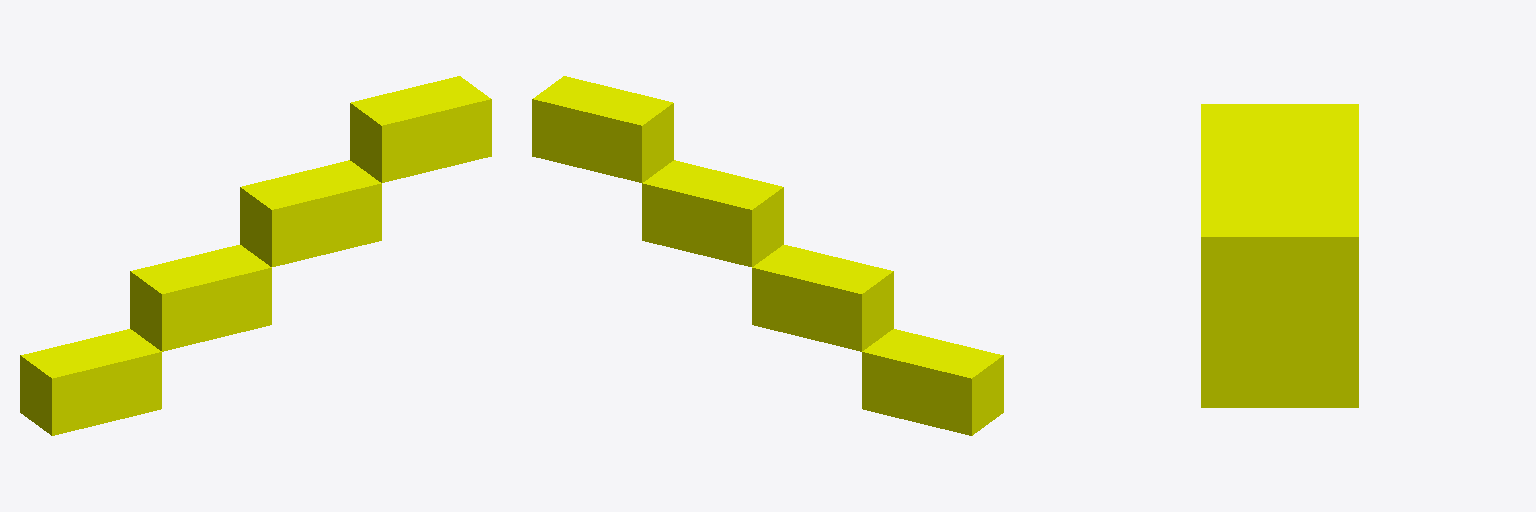
URDF robot description (parallelepiped):
<?xml version="1.0" encoding="utf-8"?>
<!-- This URDF was automatically created by SolidWorks to URDF Exporter! Originally created by [author] ([email redacted])
     Commit Version: 1.5.1-0-g916b5db  Build Version: 1.5.7152.31018
     For more information, please see http://wiki.ros.org/sw_urdf_exporter -->
<robot
  name="parallelepiped">
  <link
    name="base_link">
    <inertial>
      <origin
        xyz="0 0 0.125"
        rpy="0 0 0" />
      <mass
        value="1" />
      <inertia
        ixx="0.01041666"
        ixy="0"
        ixz="0"
        iyy="0.02604166"
        iyz="0"
        izz="0.02604166" />
    </inertial>
    <visual>
      <origin
        xyz="0 0 0.125"
        rpy="0 0 0" />
      <geometry>
        <mesh
          filename="robots/planar_2DOF/meshes/parallelepiped.stl" />
      </geometry>
      <material
        name="">
        <color
          rgba="0.96078 1 0 1" />
      </material>
    </visual>
    <collision>
      <origin
        xyz="0 0 0.125"
        rpy="0 0 0" />
      <geometry>
        <mesh
          filename="robots/planar_2DOF/meshes/parallelepiped.stl" />
      </geometry>
    </collision>
  </link>
  <link
    name="link1">
    <inertial>
      <origin
        xyz="0.25 0 0.125"
        rpy="0 0 0" />
      <mass
        value="1" />
      <inertia
        ixx="0.01041666"
        ixy="0"
        ixz="0"
        iyy="0.02604166"
        iyz="0"
        izz="0.02604166" />
    </inertial>
    <visual>
      <origin
        xyz="0.25 0 0.125"
        rpy="0 0 0" />
      <geometry>
        <mesh
          filename="robots/planar_2DOF/meshes/parallelepiped.stl" />
      </geometry>
      <material
        name="">
        <color
          rgba="0.96078 1 0 1" />
      </material>
    </visual>
    <collision>
      <origin
        xyz="0.25 0 0.125"
        rpy="0 0 0" />
      <geometry>
        <mesh
          filename="robots/planar_2DOF/meshes/parallelepiped.stl" />
      </geometry>
    </collision>
  </link>
<joint
    name="joint1"
    type="revolute">
    <origin
      xyz="0.25 0 0.25"
      rpy="0 0 0" />
    <parent
      link="base_link" />
    <child
      link="link1" />
    <axis
      xyz="0 1 0" />
    <limit
      lower="0"
      upper="0"
      effort="0"
      velocity="0" />
    <dynamics
      damping="0.5" 
      friction = "0.5" />
  </joint>
  <link
    name="link2">
    <inertial>
      <origin
        xyz="0.25 0 0.125"
        rpy="0 0 0" />
      <mass
        value="1" />
      <inertia
        ixx="0.01041666"
        ixy="0"
        ixz="0"
        iyy="0.02604166"
        iyz="0"
        izz="0.02604166" />
    </inertial>
    <visual>
      <origin
        xyz="0.25 0 0.125"
        rpy="0 0 0" />
      <geometry>
        <mesh
          filename="robots/planar_2DOF/meshes/parallelepiped.stl" />
      </geometry>
      <material
        name="">
        <color
          rgba="0.96078 1 0 1" />
      </material>
    </visual>
    <collision>
      <origin
        xyz="0.25 0 0.125"
        rpy="0 0 0" />
      <geometry>
        <mesh
          filename="robots/planar_2DOF/meshes/parallelepiped.stl" />
      </geometry>
    </collision>
  </link>
<joint
    name="joint2"
    type="revolute">
    <origin
      xyz="0.5 0 0.25"
      rpy="0 0 0" />
    <parent
      link="link1" />
    <child
      link="link2" />
    <axis
      xyz="0 1 0" />
    <limit
      lower="0"
      upper="0"
      effort="0"
      velocity="0" />
    <dynamics
      damping="0.5" 
      friction="0.5"/>
  </joint>
<link
    name="tcp">
    <inertial>
      <origin
        xyz="0.25 0 0.125"
        rpy="0 0 0" />
      <mass
        value="1" />
      <inertia
        ixx="0.01041666"
        ixy="0"
        ixz="0"
        iyy="0.02604166"
        iyz="0"
        izz="0.02604166" />
    </inertial>
    <visual>
      <origin
        xyz="0.25 0 0.125"
        rpy="0 0 0" />
      <geometry>
        <mesh
          filename="robots/planar_2DOF/meshes/parallelepiped.stl" />
      </geometry>
      <material
        name="">
        <color
          rgba="0.96078 1 0 1" />
      </material>
    </visual>
    <collision>
      <origin
        xyz="0.25 0 0.125"
        rpy="0 0 0" />
      <geometry>
        <mesh
          filename="robots/planar_2DOF/meshes/parallelepiped.stl" />
      </geometry>
    </collision>
  </link>
<joint
    name="joint_tcp"
    type="fixed">
    <origin
      xyz="0.5 0 0.25"
      rpy="0 0 0" />
    <parent
      link="link2" />
    <child
      link="tcp" />
    <axis
      xyz="0 1 0" />
    <limit
      lower="0"
      upper="0"
      effort="0"
      velocity="0" />
    <dynamics
      damping="0.5" 
      friction="0.5"/>
  </joint>

</robot>

--- What the picture shows (computed from the rendered views, not written in the file) ---
3 views of the same robot in one strip: view 1: azimuth 30°, elevation 25°; view 2: azimuth 150°, elevation 25°; view 3: azimuth 270°, elevation 25° (orthographic).
Robot: parallelepiped — 4 links, 3 joints (2 revolute, 1 fixed); root link base_link; default pose: all joints at 0.
Links seen in each view (by area): view 1: link1, link2, base_link, tcp; view 2: link1, link2, base_link, tcp; view 3: tcp, base_link, link2, link1.
Link boxes in pixels (x1,y1,x2,y2): link1: [130, 245, 271, 351]; link2: [240, 160, 381, 266]; base_link: [20, 329, 161, 435]; tcp: [350, 76, 491, 182]; link1: [752, 245, 893, 351]; link2: [642, 160, 783, 266]; base_link: [862, 329, 1003, 435]; tcp: [532, 76, 673, 182]; tcp: [1201, 104, 1358, 378]; base_link: [1201, 398, 1358, 407]; link2: [1201, 379, 1358, 388]; link1: [1201, 389, 1358, 397].
Size in the robot's own frame: 2 by 0.25 by 1 metres.
4 mesh visuals loaded from 1 distinct referenced files (1 binary STL).